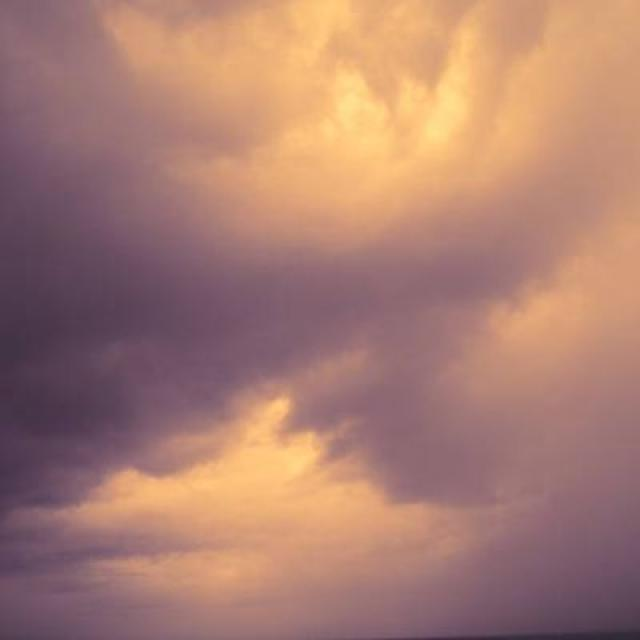As: (1, 60, 640, 582)
